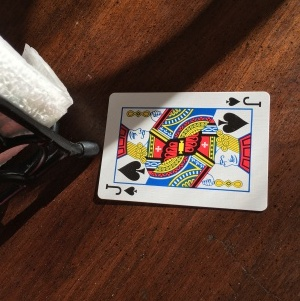card: (97, 90, 271, 211)
